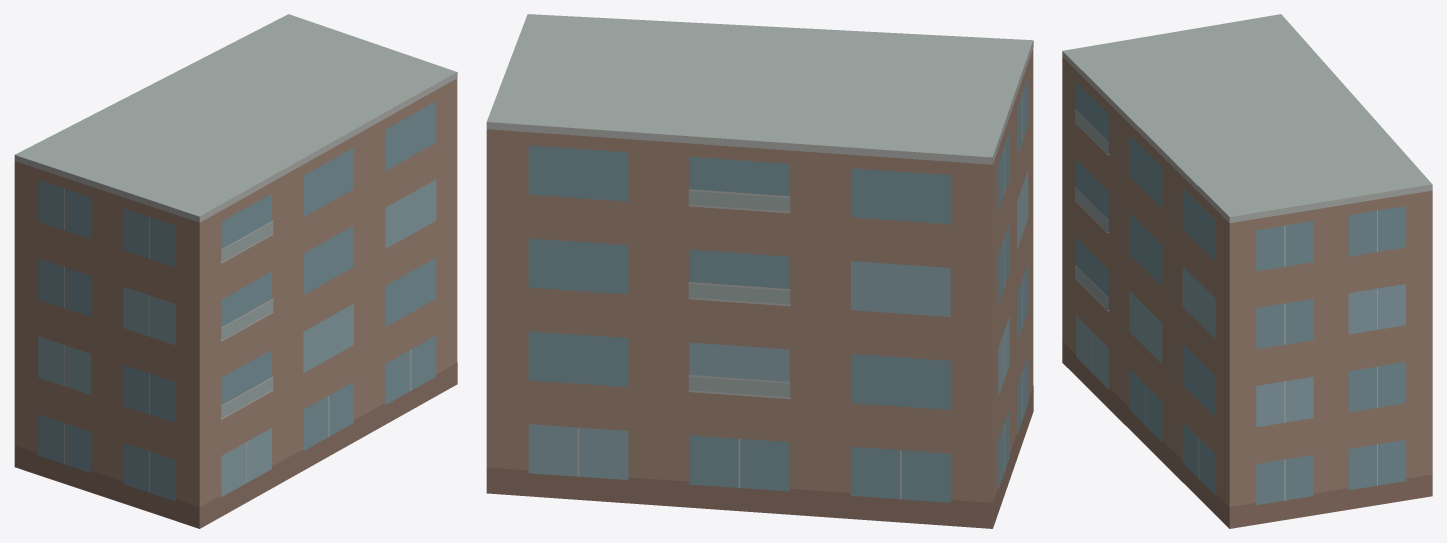
File: survey-upis-32844771.glb
3 renders of one model, left to right at view 1: azimuth 30°, elevation 25°; view 2: azimuth 150°, elevation 25°; view 3: azimuth 270°, elevation 25°, orthographic. The views are drawn at different scales.
Parts seen in each view (by area): view 1: survey-upis-32844771.tmp; view 2: survey-upis-32844771.tmp; view 3: survey-upis-32844771.tmp.
Part boxes in pixels (<box>): survey-upis-32844771.tmp: <box>14,14,457,528</box>; survey-upis-32844771.tmp: <box>486,14,1033,528</box>; survey-upis-32844771.tmp: <box>1062,14,1432,528</box>.
Bounding box in the file's own units: 17.48 × 12.5 × 13.47.
